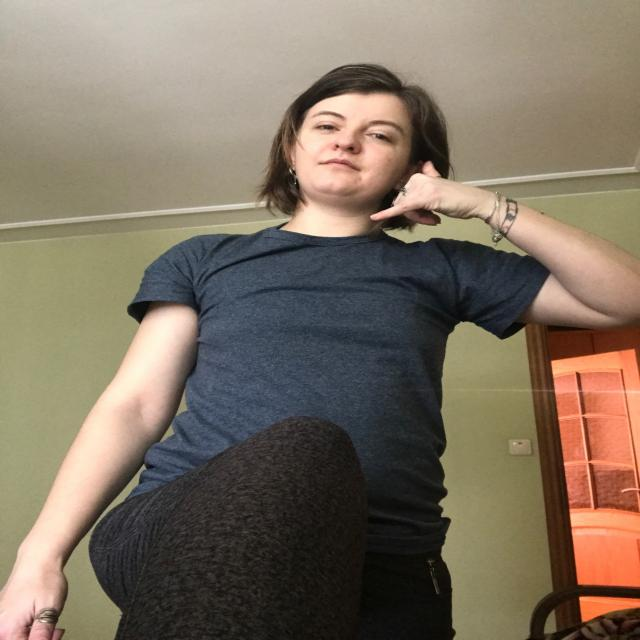call: (365, 157, 481, 229)
